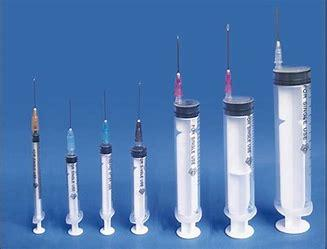Syringe: (269, 3, 319, 235), (221, 18, 259, 243), (170, 31, 206, 244), (24, 72, 52, 236), (56, 96, 88, 238), (128, 72, 150, 241), (98, 89, 120, 240)
